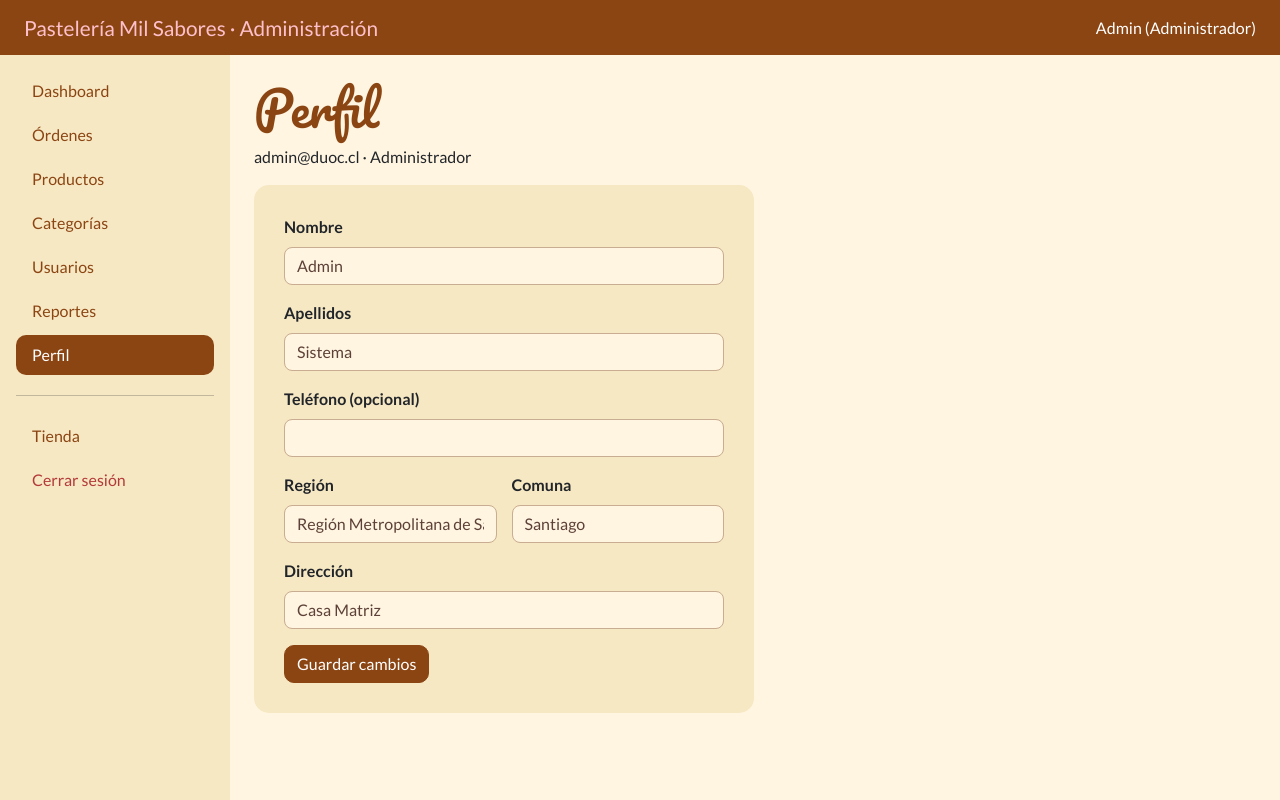
Test: Admin: eliminar usuarios y casos de error › no guarda un perfil con datos inválidos
Clear the field labelled "Nombre": {"x": 504, "y": 266} [284, 247, 724, 285]
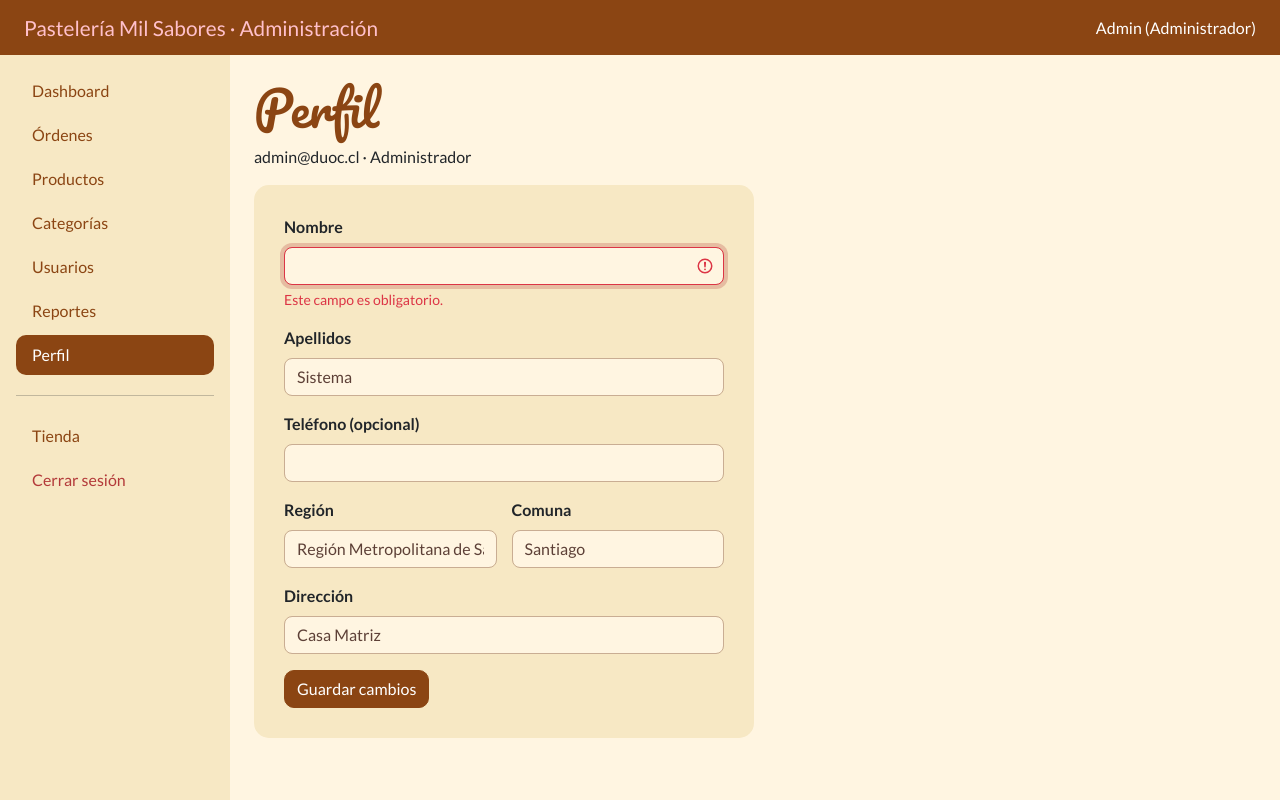
Click the button "Guardar cambios": {"x": 357, "y": 689} [284, 670, 429, 708]
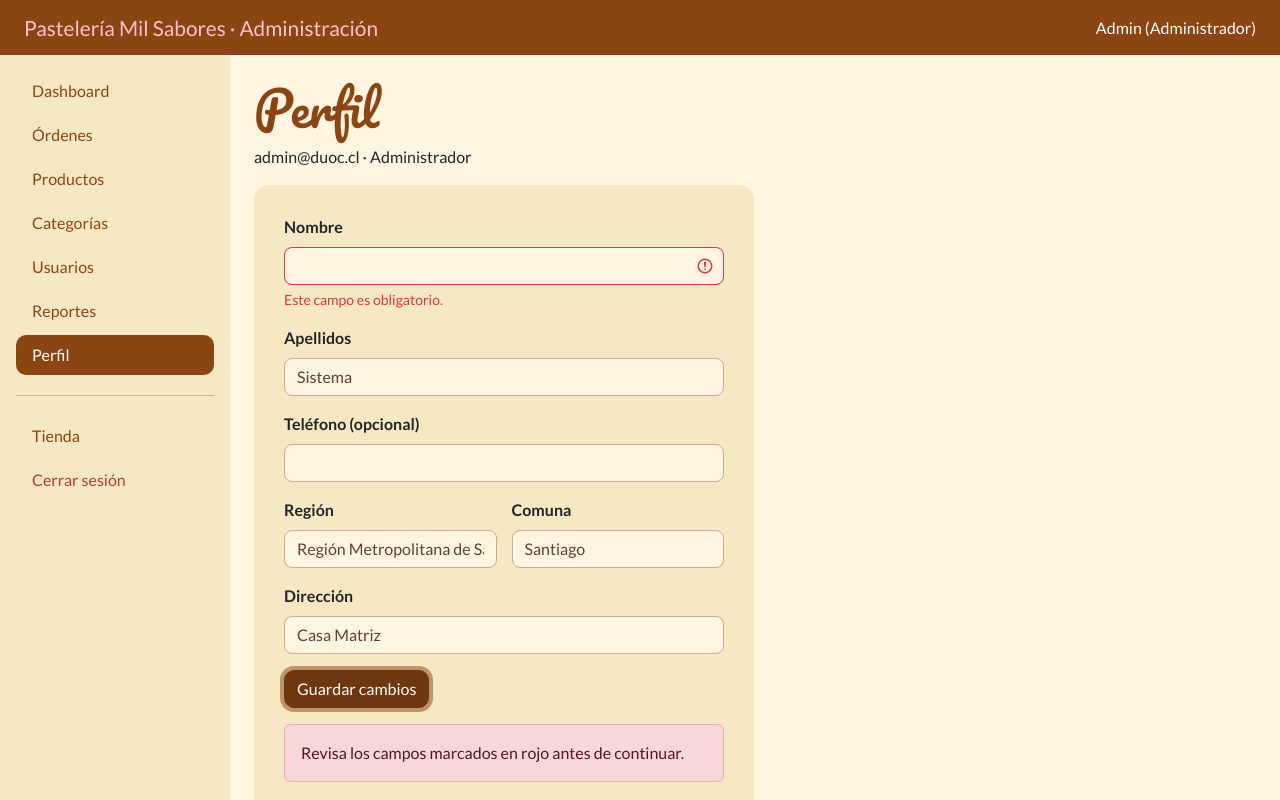
Expected: the message shows "Revisa los campos marcados en rojo", [301, 743, 684, 762]
